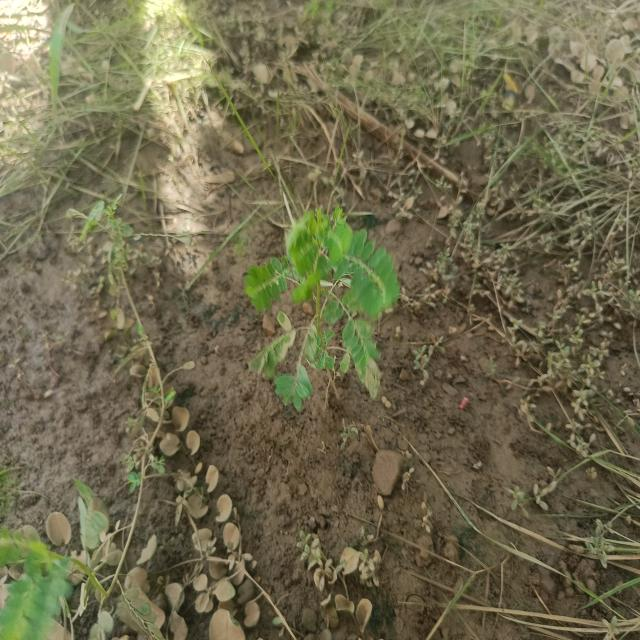weed: (243, 212, 413, 422)
